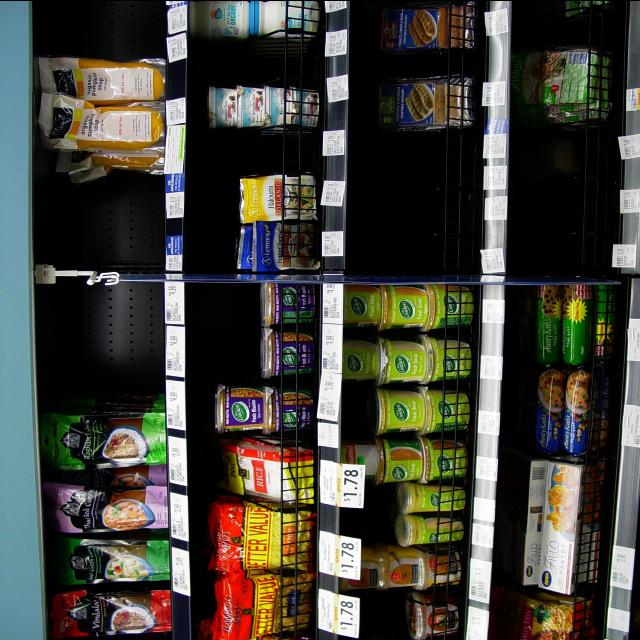empty_space: (350, 130, 474, 274), (45, 282, 167, 401), (39, 176, 165, 257), (510, 175, 614, 273), (189, 282, 263, 378), (40, 0, 166, 56)
